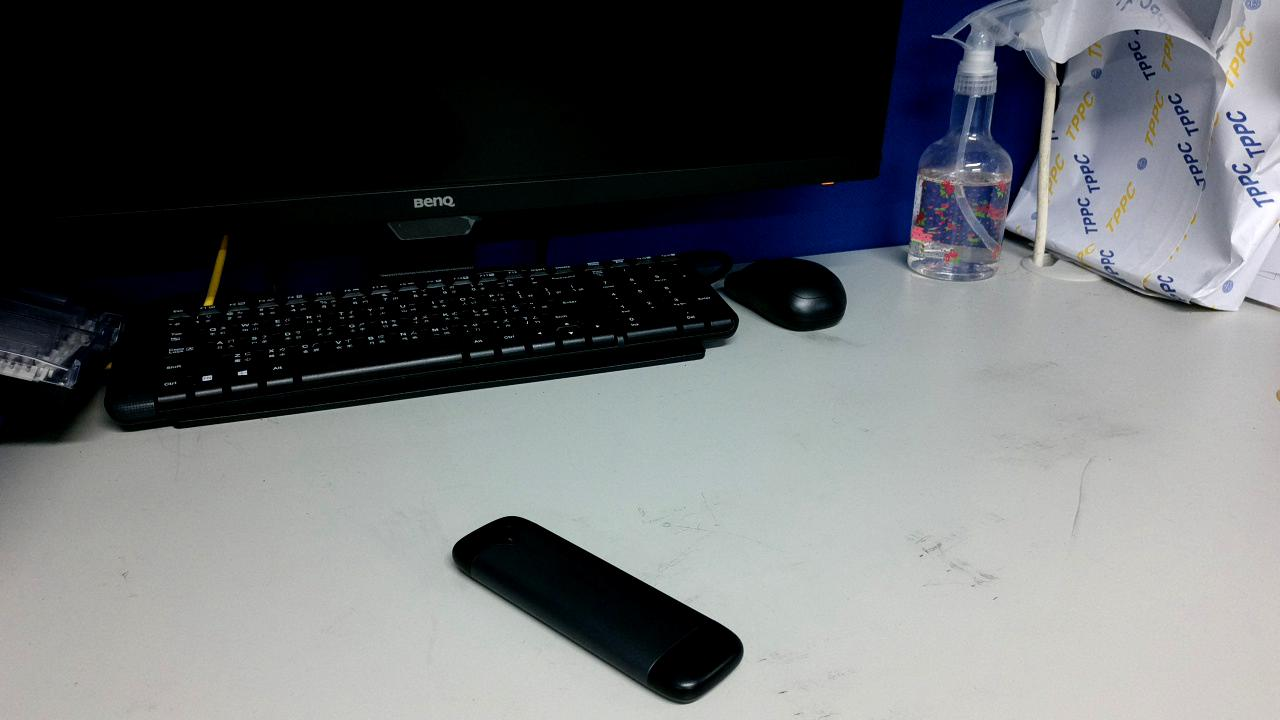blade: (488, 604, 579, 651)
grasp: (278, 518, 520, 658)
